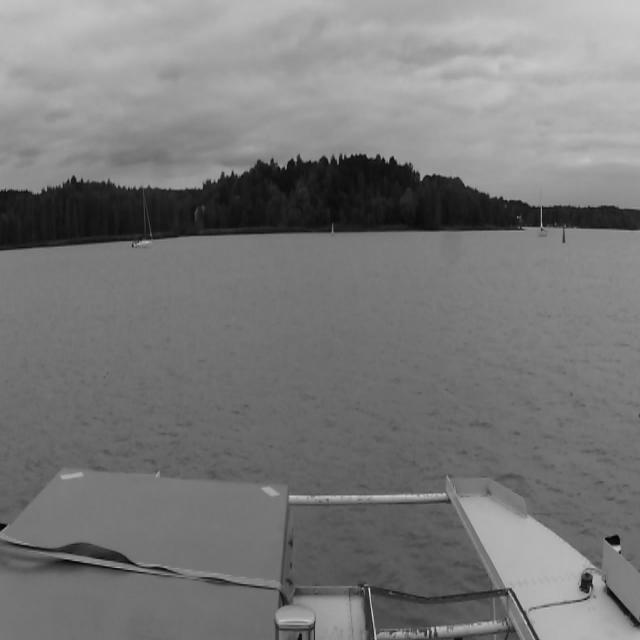buoy: (562, 224, 566, 244), (330, 222, 334, 236)
ship: (131, 187, 153, 249), (538, 190, 548, 238)
